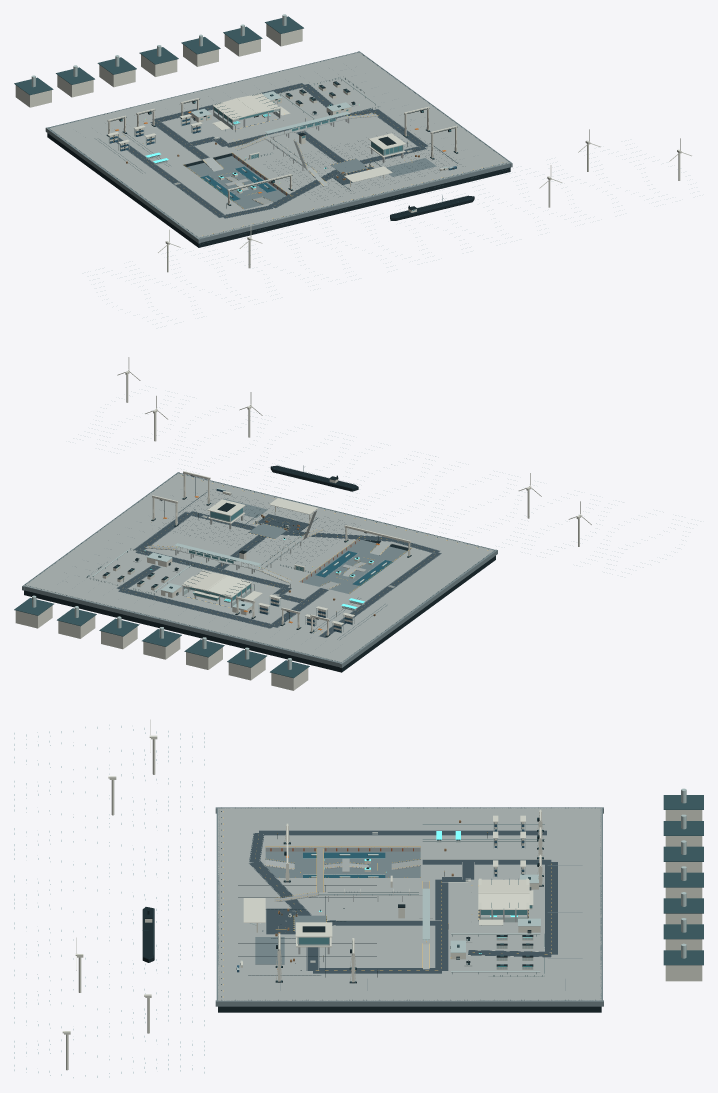
Rendered from new-harbor.glb.
The picture shows the model from 3 angles, top to bottom: view 1: azimuth 30°, elevation 25°; view 2: azimuth 150°, elevation 25°; view 3: azimuth 270°, elevation 25°; orthographic projection. The views are drawn at different scales.
Visible parts, largest first — view 1: ground-concrete, detail-white (×3), paint-asphalt, detail-paving, detail-steel (×2), ground-dark, roof-white (×2), ground-paving, detail-dark, detail-water, paint-paving, bridge-concrete; view 2: ground-concrete, detail-white (×3), paint-asphalt, detail-paving, detail-steel (×2), ground-dark, roof-white (×2), ground-paving, detail-dark, detail-water, bridge-concrete; view 3: ground-concrete, paint-asphalt (×2), detail-white (×3), detail-paving, detail-steel, roof-white (×2), ground-dark, ground-paving, detail-lightSteel (×2), paint-foam, detail-concrete, paint-paving (+3 smaller).
Part boxes in pixels (x1=…): ground-concrete: x1=49, y1=52, x2=509, y2=238; detail-white (×3): x1=15, y1=24, x2=681, y2=272; paint-asphalt: x1=106, y1=83, x2=428, y2=218; detail-paving: x1=45, y1=51, x2=512, y2=243; detail-steel (×2): x1=14, y1=16, x2=509, y2=237; ground-dark: x1=47, y1=133, x2=510, y2=247; roof-white (×2): x1=212, y1=93, x2=405, y2=182; ground-paving: x1=186, y1=156, x2=285, y2=209; detail-dark: x1=390, y1=195, x2=474, y2=220; detail-water: x1=200, y1=166, x2=276, y2=200; paint-paving: x1=331, y1=143, x2=457, y2=187; bridge-concrete: x1=264, y1=116, x2=348, y2=168; ground-concrete: x1=24, y1=473, x2=494, y2=662; detail-white (×3): x1=15, y1=371, x2=581, y2=690; paint-asphalt: x1=116, y1=511, x2=441, y2=637; detail-paving: x1=22, y1=472, x2=497, y2=667; detail-steel (×2): x1=14, y1=465, x2=494, y2=678; ground-dark: x1=24, y1=540, x2=495, y2=672; roof-white (×2): x1=182, y1=498, x2=318, y2=600; ground-paving: x1=303, y1=540, x2=407, y2=594; detail-dark: x1=270, y1=465, x2=358, y2=491; detail-water: x1=315, y1=551, x2=392, y2=585; bridge-concrete: x1=175, y1=537, x2=303, y2=570; ground-concrete: x1=218, y1=808, x2=601, y2=1000; paint-asphalt (×2): x1=249, y1=830, x2=557, y2=973; detail-white (×3): x1=64, y1=735, x2=702, y2=1070; detail-paving: x1=215, y1=807, x2=603, y2=1006; detail-steel: x1=142, y1=795, x2=703, y2=965; roof-white (×2): x1=243, y1=878, x2=533, y2=937; ground-dark: x1=218, y1=1006, x2=601, y2=1012; ground-paving: x1=265, y1=851, x2=420, y2=877; detail-lightSteel (×2): x1=451, y1=788, x2=686, y2=976; paint-foam: x1=14, y1=725, x2=204, y2=1077; detail-concrete: x1=265, y1=847, x2=420, y2=878; paint-paving: x1=255, y1=937, x2=284, y2=964.
Size of what is drawn, in the model's own units: 917 by 79 by 755.
